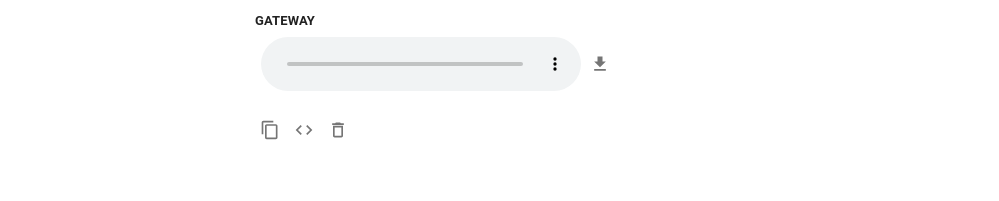
Scenario: deleting the audio of a stored speech answer › restores the icon and deletes nothing when the confirm is cancelled
The width and height of the screenshot is (999, 201).
Click the button named "Audio löschen" at x=338, y=130, box [323,114,353,144]
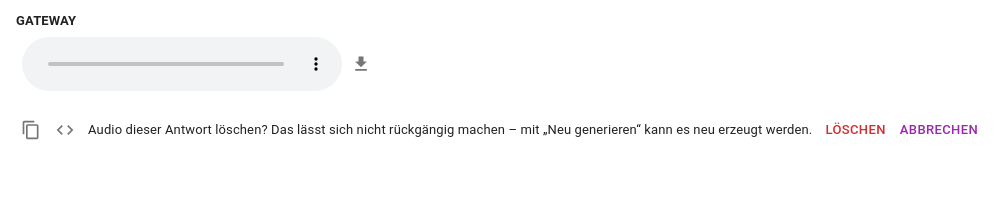
Click the button "Abbrechen" at x=939, y=130, box [895,114,983,145]
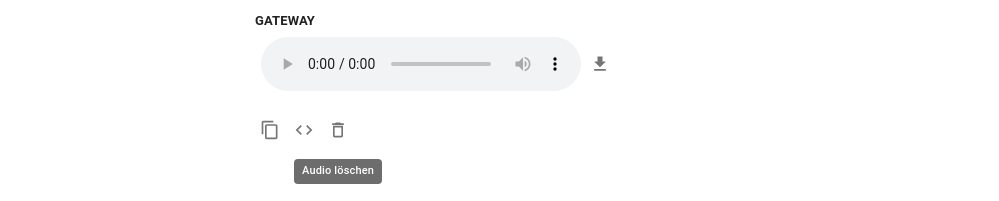
Expected: the button named "Audio löschen" is shown, [323,114,353,144]
Expected: the text "Audio dieser Antwort löschen? Das lässt sich nicht rückgängig machen – mit „Neu generieren“ kann es neu erzeugt werden." is gone
Expected: the button "Abbrechen" is gone
